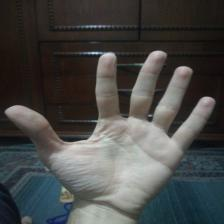five: (4, 45, 219, 208)
